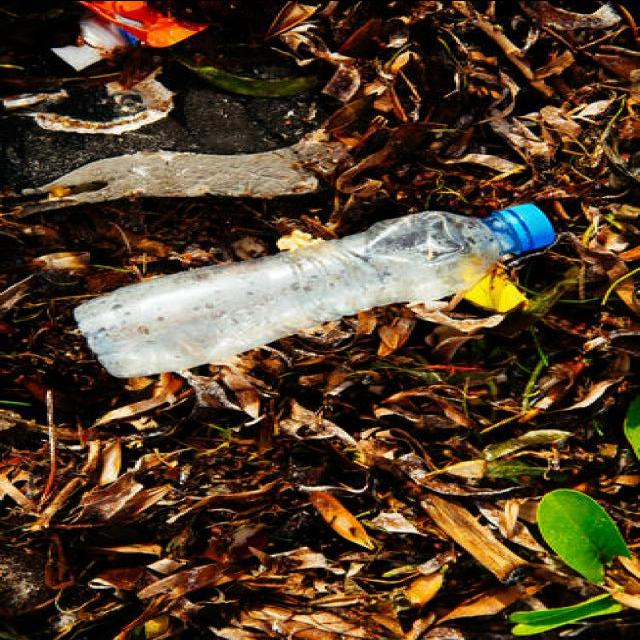cap: (500, 192, 558, 260)
crumbled: (71, 190, 556, 382)
